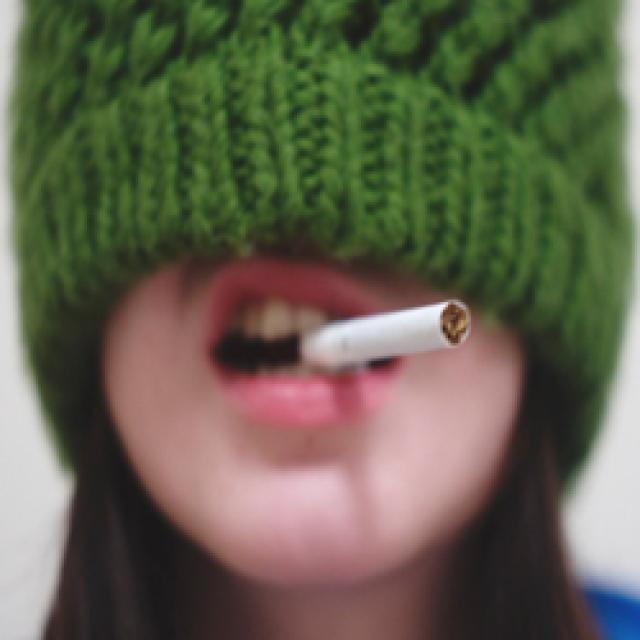Smooking: (285, 295, 482, 391)
